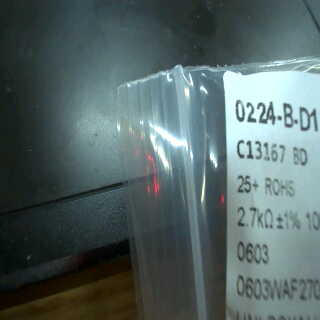2.7kR: (236, 203, 279, 234)
